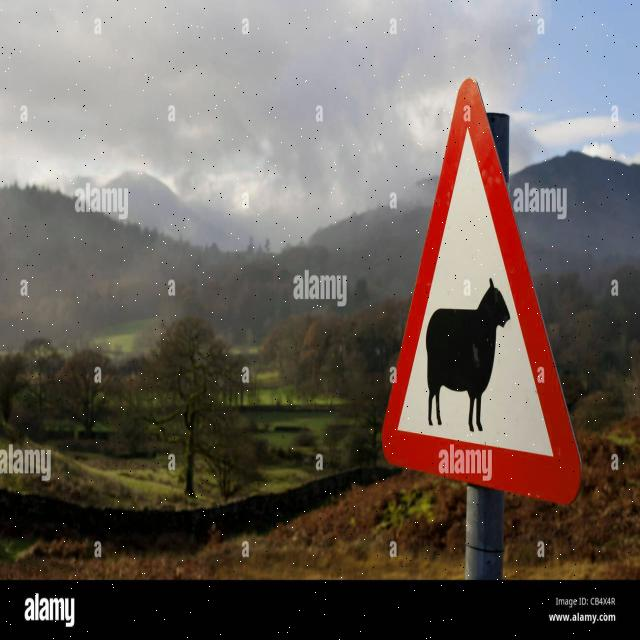cattle: (366, 74, 599, 507)
